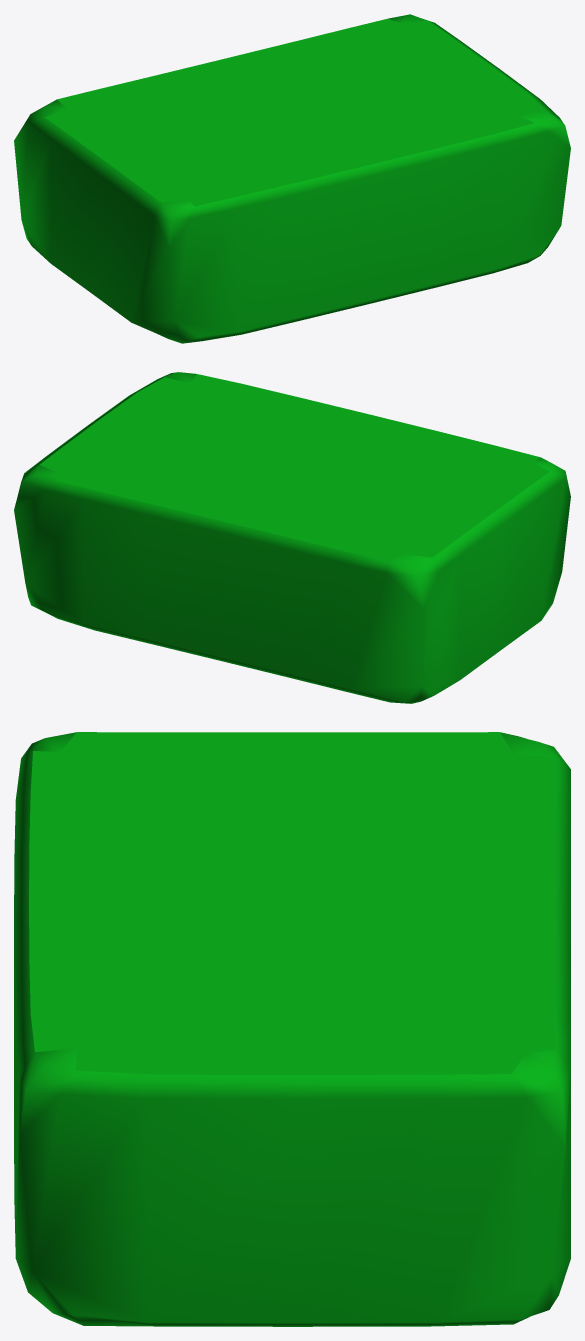
File: Soap.fbx
The picture shows the model from 3 angles, top to bottom: view 1: azimuth 30°, elevation 25°; view 2: azimuth 150°, elevation 25°; view 3: azimuth 270°, elevation 25°; orthographic projection. The views are drawn at different scales.
Parts seen in each view (by area): view 1: Soap; view 2: Soap; view 3: Soap.
Part boxes in pixels (x1=…): Soap: x1=14, y1=14, x2=570, y2=343; Soap: x1=14, y1=372, x2=570, y2=703; Soap: x1=14, y1=732, x2=570, y2=1326.
Size of the model in its own units: 97.45 by 31.56 by 63.26.
